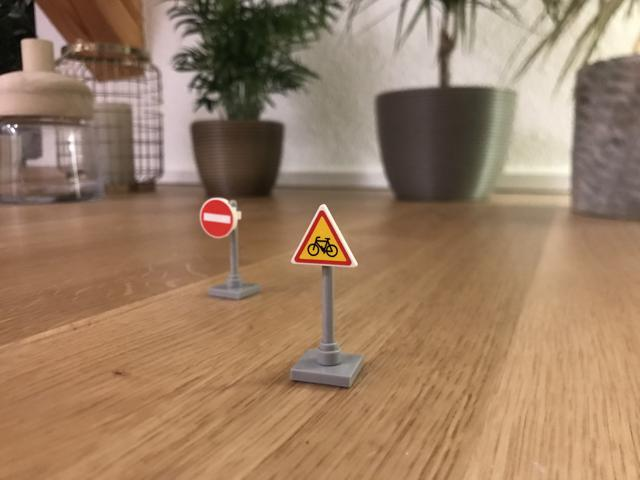radfahrer: (291, 203, 359, 269)
verbot der einfahrt: (198, 197, 237, 238)
